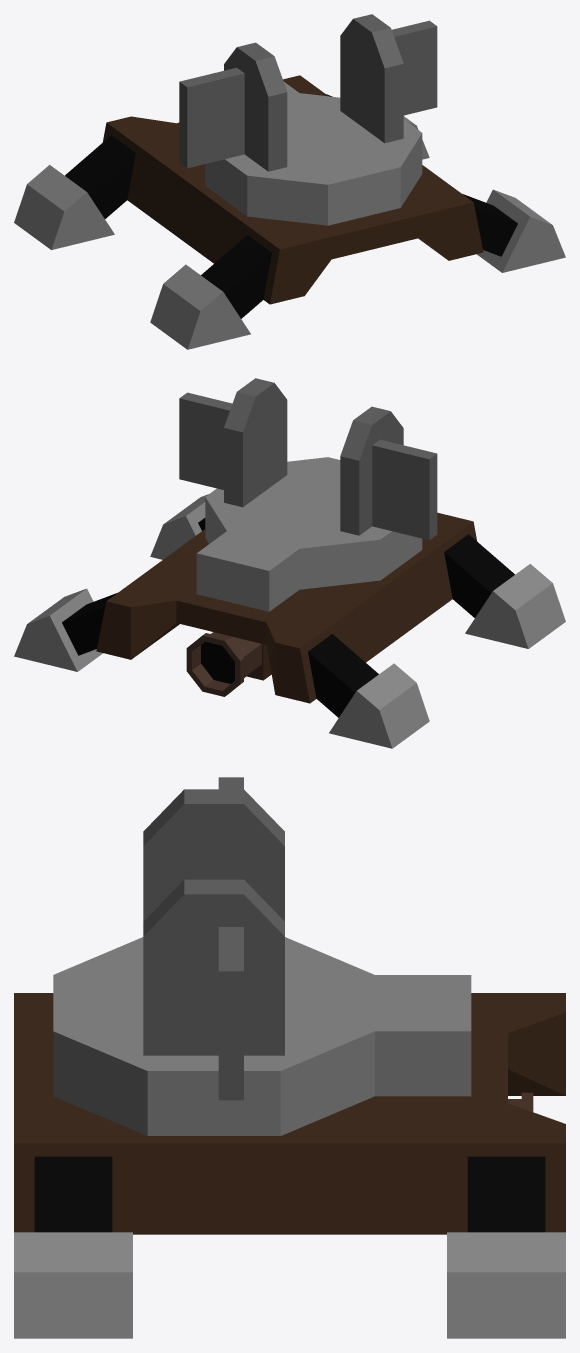
The model's file is Artillery.fbx.
3 renders of one model, top to bottom at view 1: azimuth 30°, elevation 25°; view 2: azimuth 150°, elevation 25°; view 3: azimuth 270°, elevation 25°, orthographic. The views are drawn at different scales.
Parts seen in each view (by area): view 1: Cube.099, Cube.098; view 2: Cube.099, Cube.098, Cylinder.068; view 3: Cube.099, Cube.098.
Boxes of the visible parts, box(x1,y1,x2,y2) form: Cube.099: box(14, 75, 565, 349); Cube.098: box(179, 14, 437, 225); Cube.099: box(14, 494, 565, 748); Cube.098: box(179, 378, 437, 611); Cylinder.068: box(186, 632, 261, 696); Cube.099: box(14, 993, 565, 1338); Cube.098: box(53, 777, 471, 1135).
Bounding box in the file's own units: 259 × 146 × 206.
